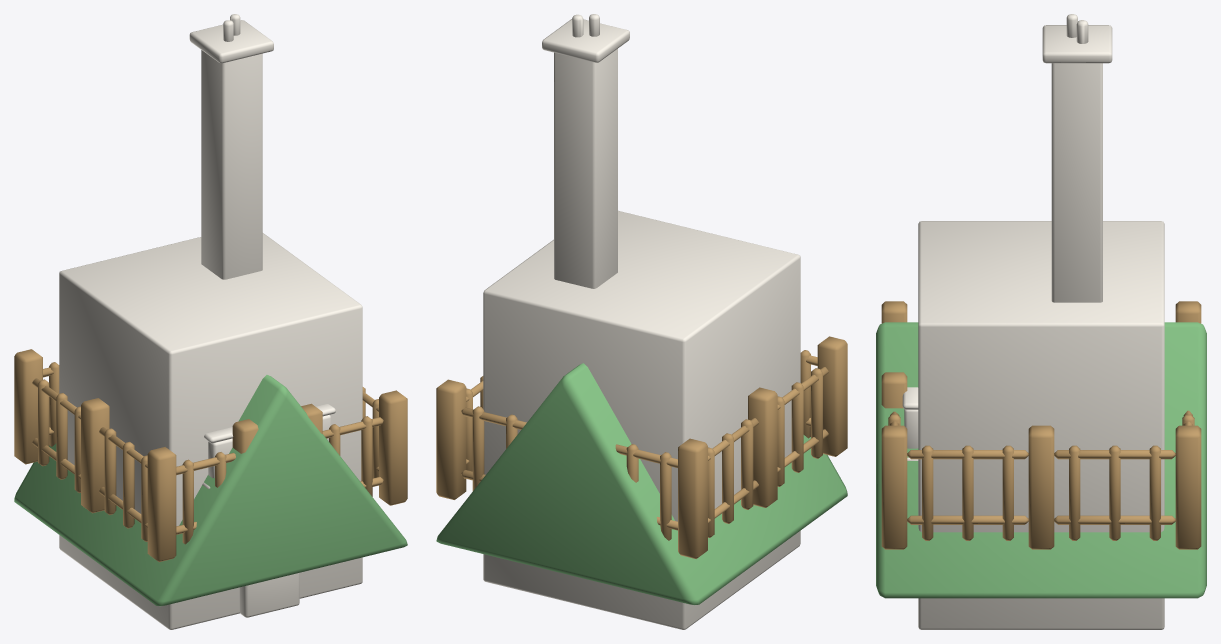
File: house.glb
3 views of the same model, side by side, from view 1: azimuth 30°, elevation 25°; view 2: azimuth 150°, elevation 25°; view 3: azimuth 270°, elevation 25° (orthographic). The views are drawn at different scales.
Visible parts, largest first — view 1: body, roof, fence; view 2: body, roof, fence; view 3: body, roof, fence.
Boxes of the visible parts, <box> form: body: <box>59,14,362,629</box>; roof: <box>14,375,407,606</box>; fence: <box>14,349,407,562</box>; body: <box>483,14,800,629</box>; roof: <box>436,363,847,605</box>; fence: <box>436,336,847,558</box>; body: <box>902,14,1164,629</box>; roof: <box>876,322,1206,598</box>; fence: <box>881,301,1201,549</box>.
Size of the model in its own units: 0.622 by 1.25 by 0.644.
